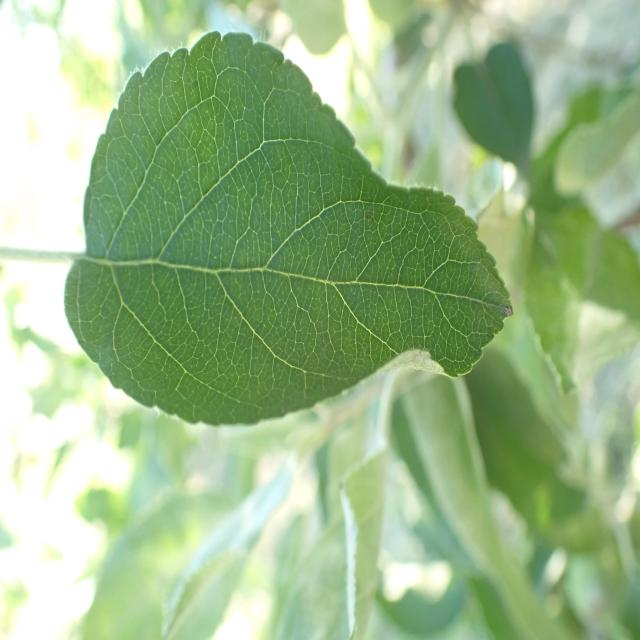healthy: (65, 29, 513, 428)
